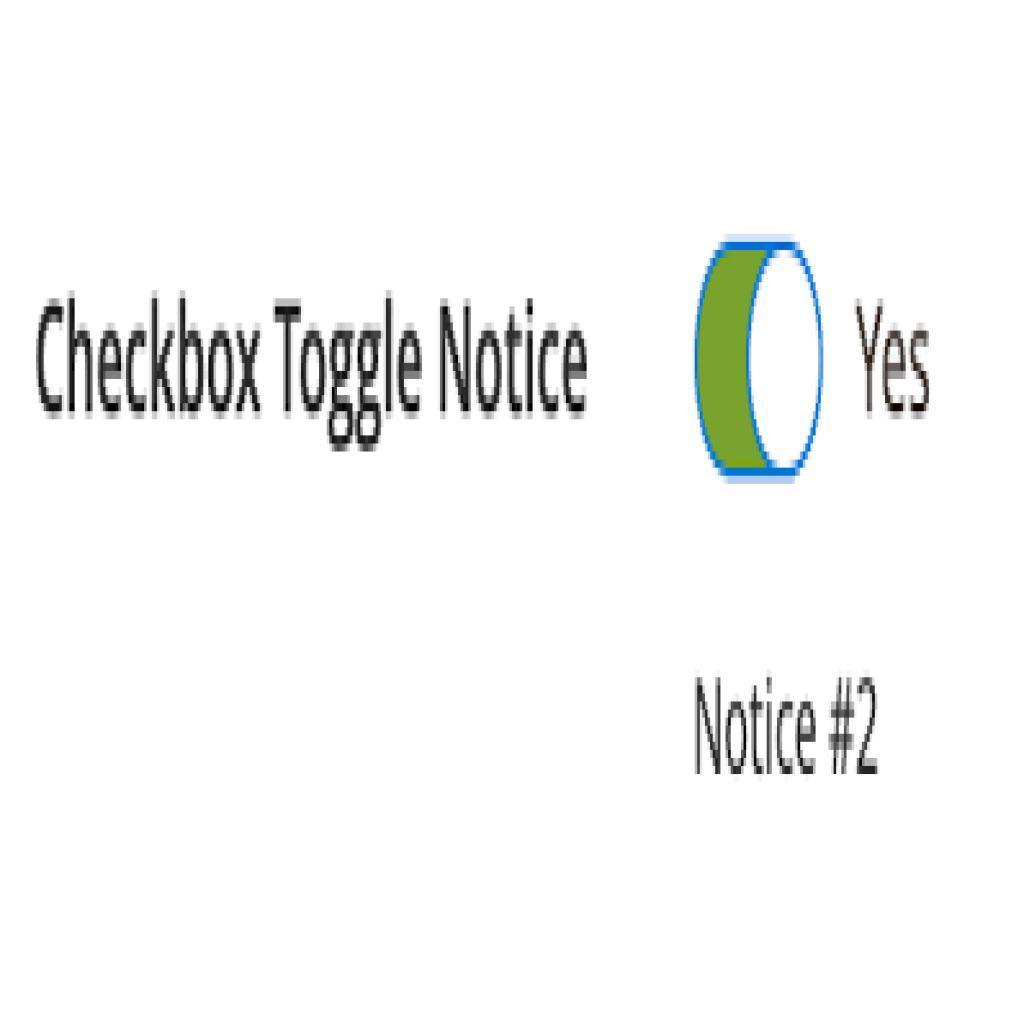switch: (694, 241, 823, 479)
